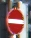No entry: (5, 6, 26, 33)
